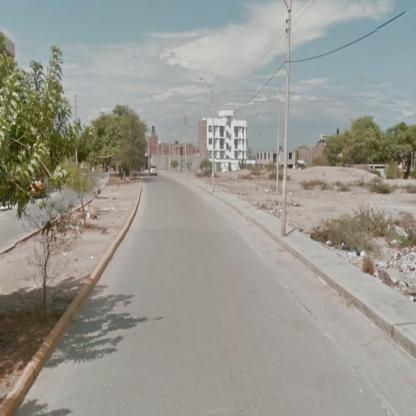Pista: (13, 169, 416, 415)
Vehiculo: (149, 166, 158, 174)
